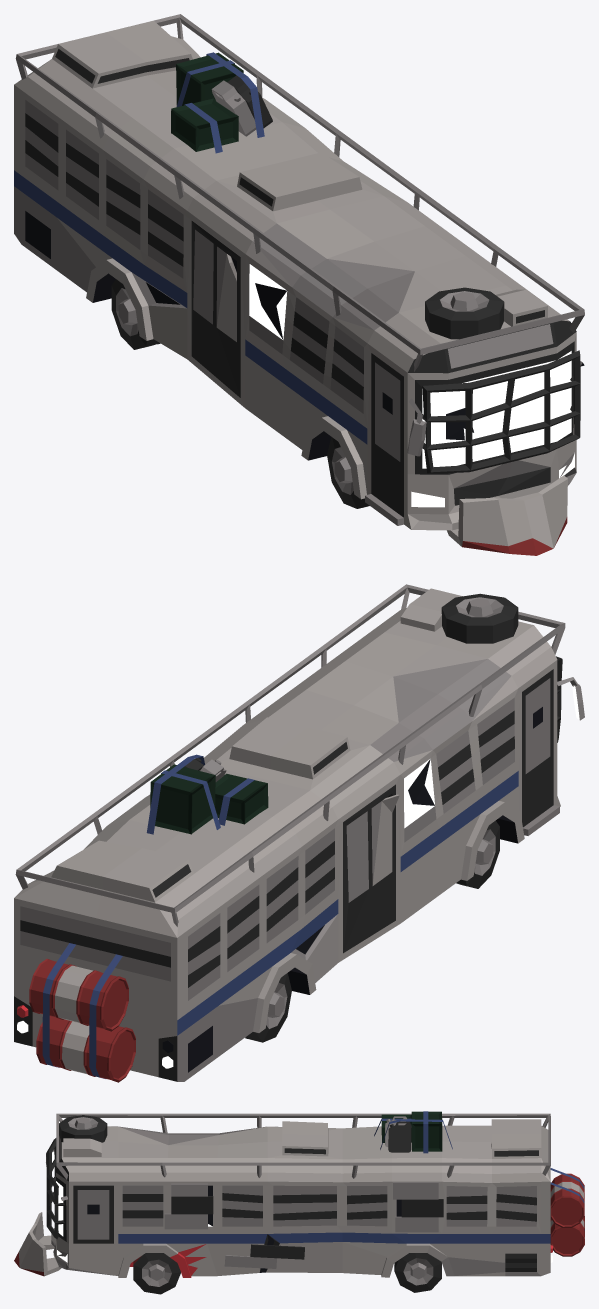
The model's file is apocalypse-bus-passenger-apocalypse.glb.
The picture shows the model from 3 angles, top to bottom: view 1: azimuth 30°, elevation 25°; view 2: azimuth 150°, elevation 25°; view 3: azimuth 270°, elevation 25°; orthographic projection. The views are drawn at different scales.
Parts seen in each view (by area): view 1: bus-passenger-apocalypse-base, bus-passenger-apocalypse-props, bus-passenger-apocalypse-wheel_BR, bus-passenger-apocalypse-wheel_FR; view 2: bus-passenger-apocalypse-base, bus-passenger-apocalypse-props, bus-passenger-apocalypse-wheel_BR, bus-passenger-apocalypse-wheel_FR; view 3: bus-passenger-apocalypse-base, bus-passenger-apocalypse-props, bus-passenger-apocalypse-wheel_FL, bus-passenger-apocalypse-wheel_BL.
Part boxes in pixels (x1,y1,x2,y2): bus-passenger-apocalypse-base: [14, 14, 584, 530]; bus-passenger-apocalypse-props: [171, 52, 580, 555]; bus-passenger-apocalypse-wheel_BR: [111, 279, 160, 349]; bus-passenger-apocalypse-wheel_FR: [327, 437, 369, 508]; bus-passenger-apocalypse-base: [14, 584, 584, 1081]; bus-passenger-apocalypse-props: [29, 593, 562, 1082]; bus-passenger-apocalypse-wheel_BR: [245, 973, 291, 1042]; bus-passenger-apocalypse-wheel_FR: [456, 820, 499, 888]; bus-passenger-apocalypse-base: [46, 1113, 552, 1277]; bus-passenger-apocalypse-props: [14, 1111, 584, 1276]; bus-passenger-apocalypse-wheel_FL: [133, 1253, 180, 1294]; bus-passenger-apocalypse-wheel_BL: [394, 1253, 441, 1292].
Bounding box in the file's own units: 2.97 × 3.86 × 12.66.
